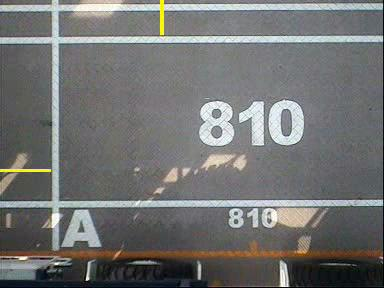groundmarker_2: (197, 154, 233, 220)
